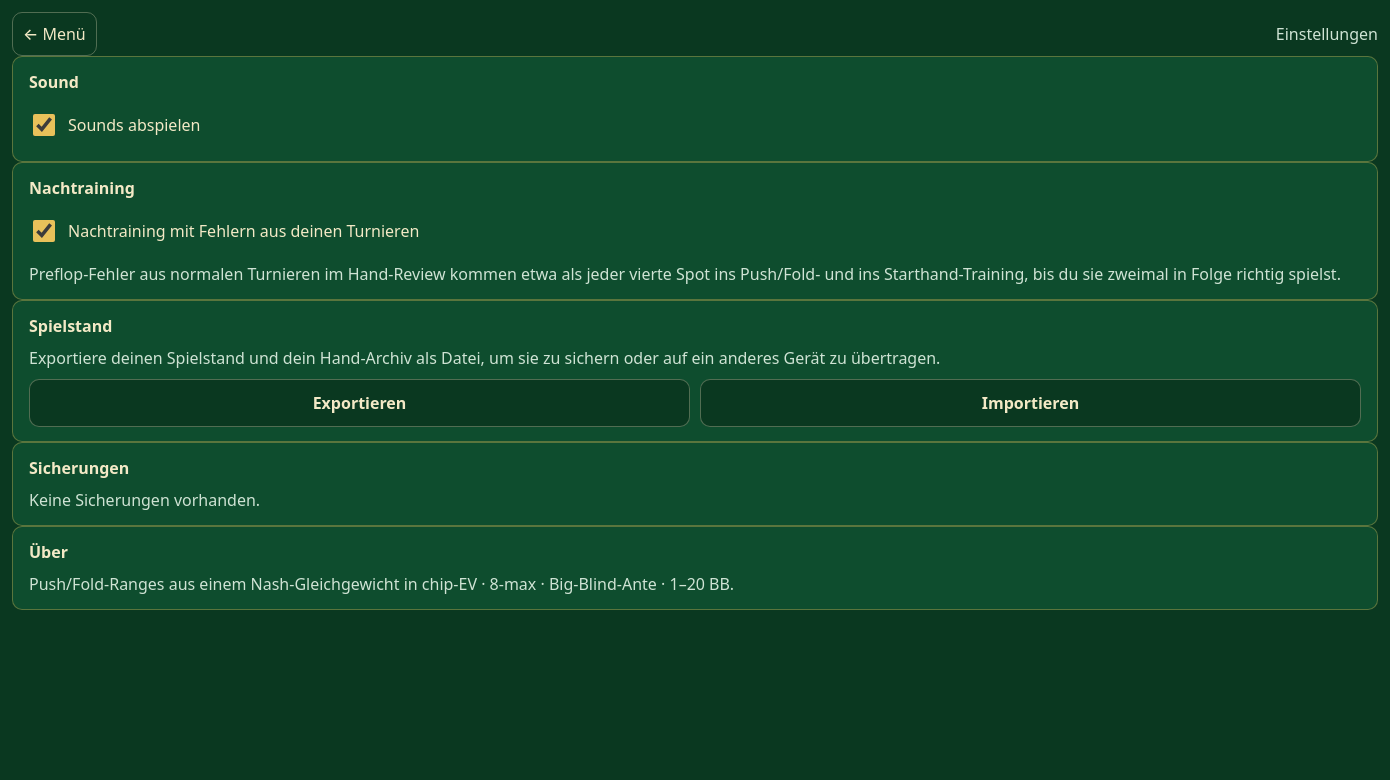
Test: SettingsScreen with the hand archive › reports unreadable archive entries left out of the export
Click the button "Exportieren": {"x": 360, "y": 403} [29,379,690,427]
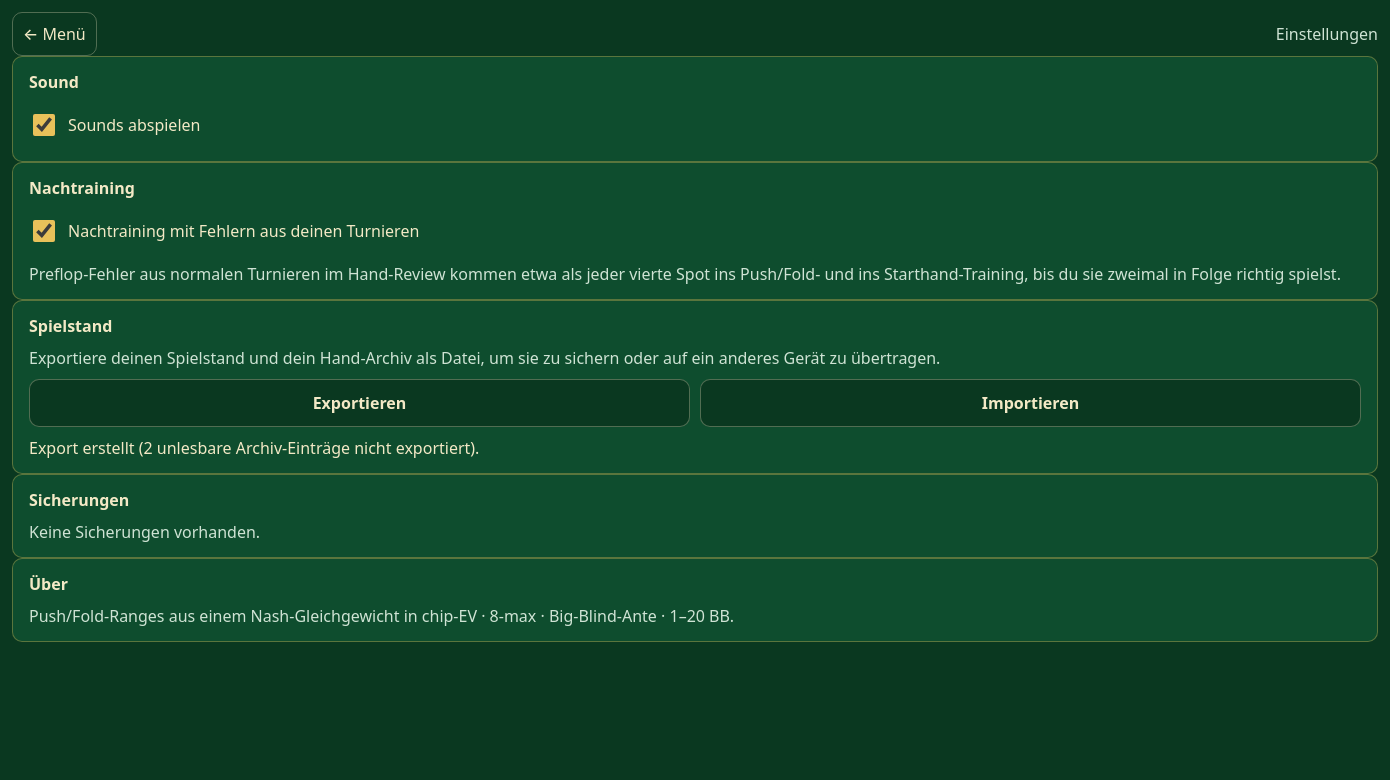
Now the text "Export erstellt (2 unlesbare Archiv-Einträge nicht exportiert)." is shown, box [29,437,479,459]
